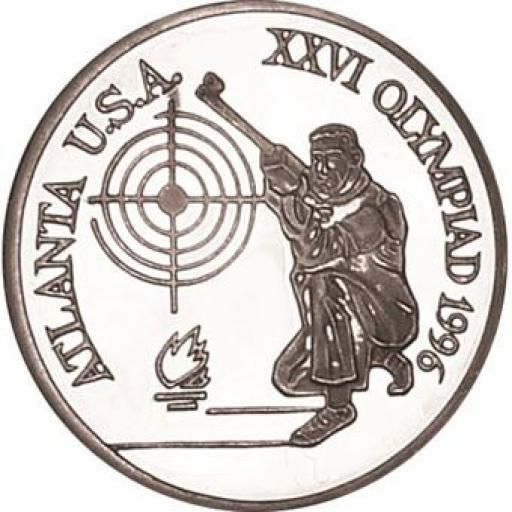shooting: (180, 78, 435, 428)
